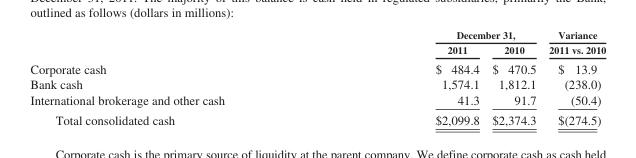table: (29, 28, 605, 126)
table column: (29, 28, 329, 126), (329, 28, 485, 126), (541, 28, 605, 126), (485, 28, 541, 126)
table column header: (29, 28, 605, 58)
table row: (29, 58, 605, 76), (29, 91, 605, 109), (29, 41, 605, 58), (29, 109, 605, 126), (29, 76, 605, 91), (29, 28, 605, 41)
table spanning cell: (329, 28, 541, 41), (541, 28, 605, 58)
